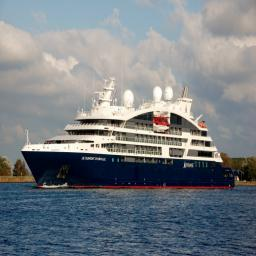cruises: (21, 73, 239, 194)
